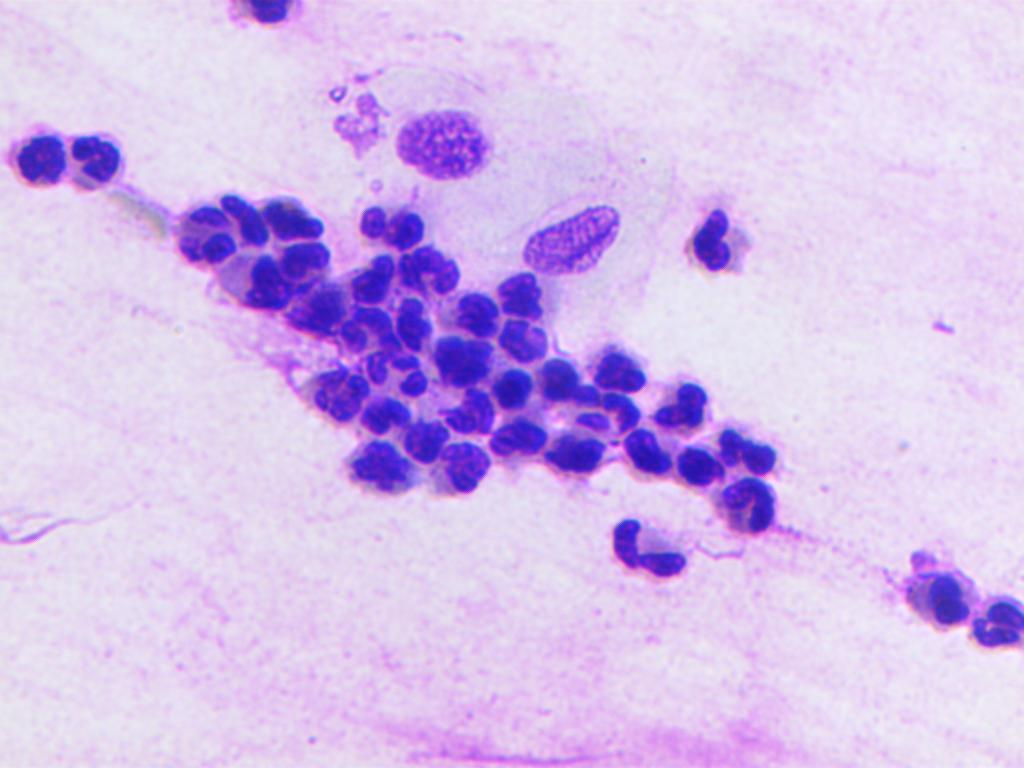epithelial: (355, 65, 543, 205), (510, 196, 644, 273)
neutrophil: (165, 184, 276, 268), (601, 512, 729, 584), (675, 188, 767, 288), (897, 544, 974, 639), (417, 322, 498, 397), (210, 250, 289, 322), (61, 119, 130, 199), (338, 431, 420, 498), (475, 254, 556, 318), (579, 336, 652, 404), (428, 438, 502, 505), (13, 121, 79, 196), (569, 384, 654, 440), (350, 199, 439, 252), (496, 303, 572, 364), (537, 422, 612, 483), (426, 376, 499, 438), (661, 435, 731, 499), (303, 368, 374, 430), (367, 344, 434, 408), (334, 306, 404, 365), (652, 371, 712, 439), (253, 188, 328, 242), (396, 241, 469, 295), (719, 471, 776, 540), (276, 235, 356, 281), (614, 427, 677, 485), (716, 422, 789, 471), (486, 415, 555, 466), (536, 343, 584, 416), (448, 278, 508, 336), (229, 0, 307, 42), (970, 595, 1023, 656), (360, 388, 419, 440), (389, 285, 432, 356), (341, 249, 393, 307), (399, 417, 457, 468), (487, 355, 536, 411)
